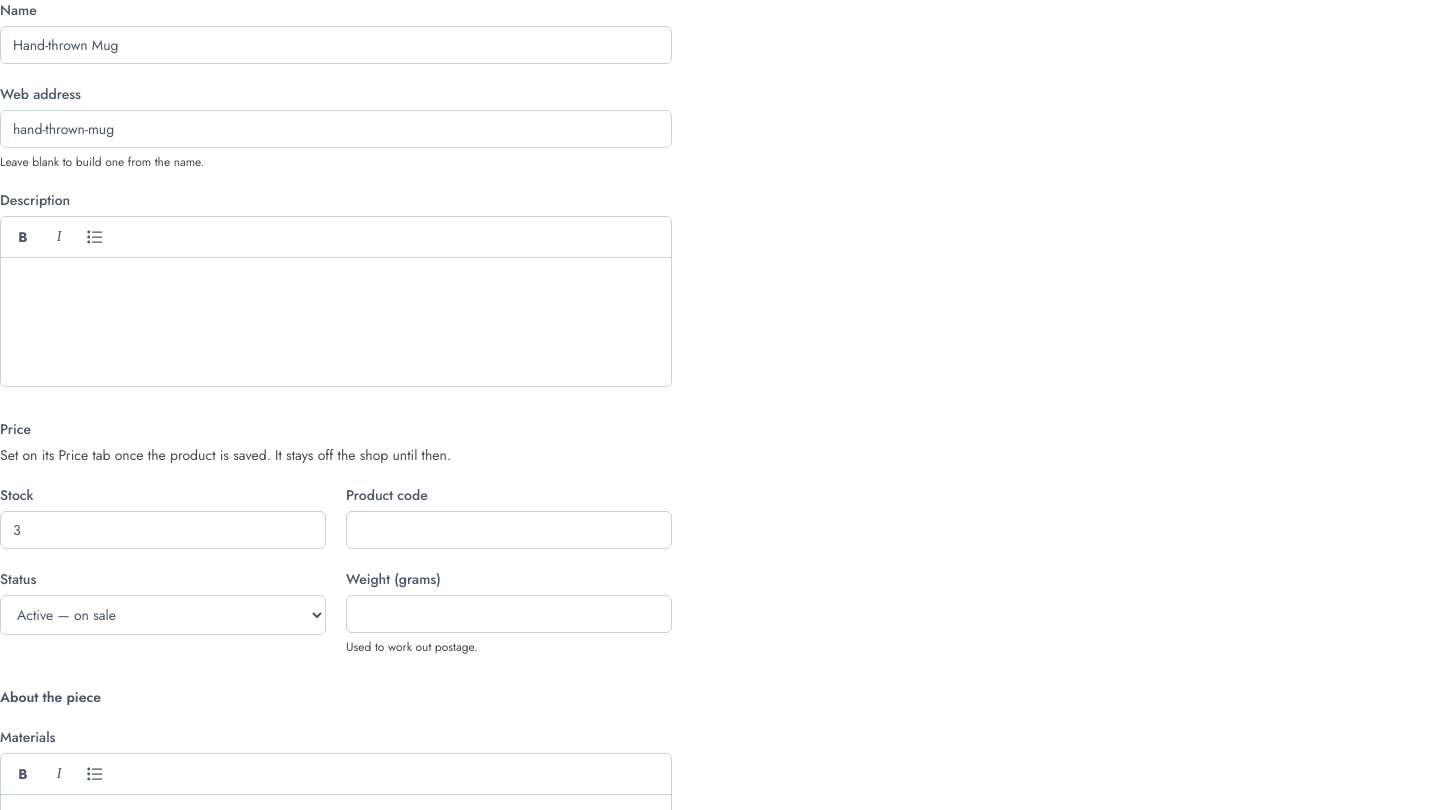
Test: ProductForm › asks before a link takes away changes not yet saved
The width and height of the screenshot is (1440, 810).
In the field labelled "Name": (336, 45) [0, 26, 672, 64], type " - Blue"
(page scrolled)
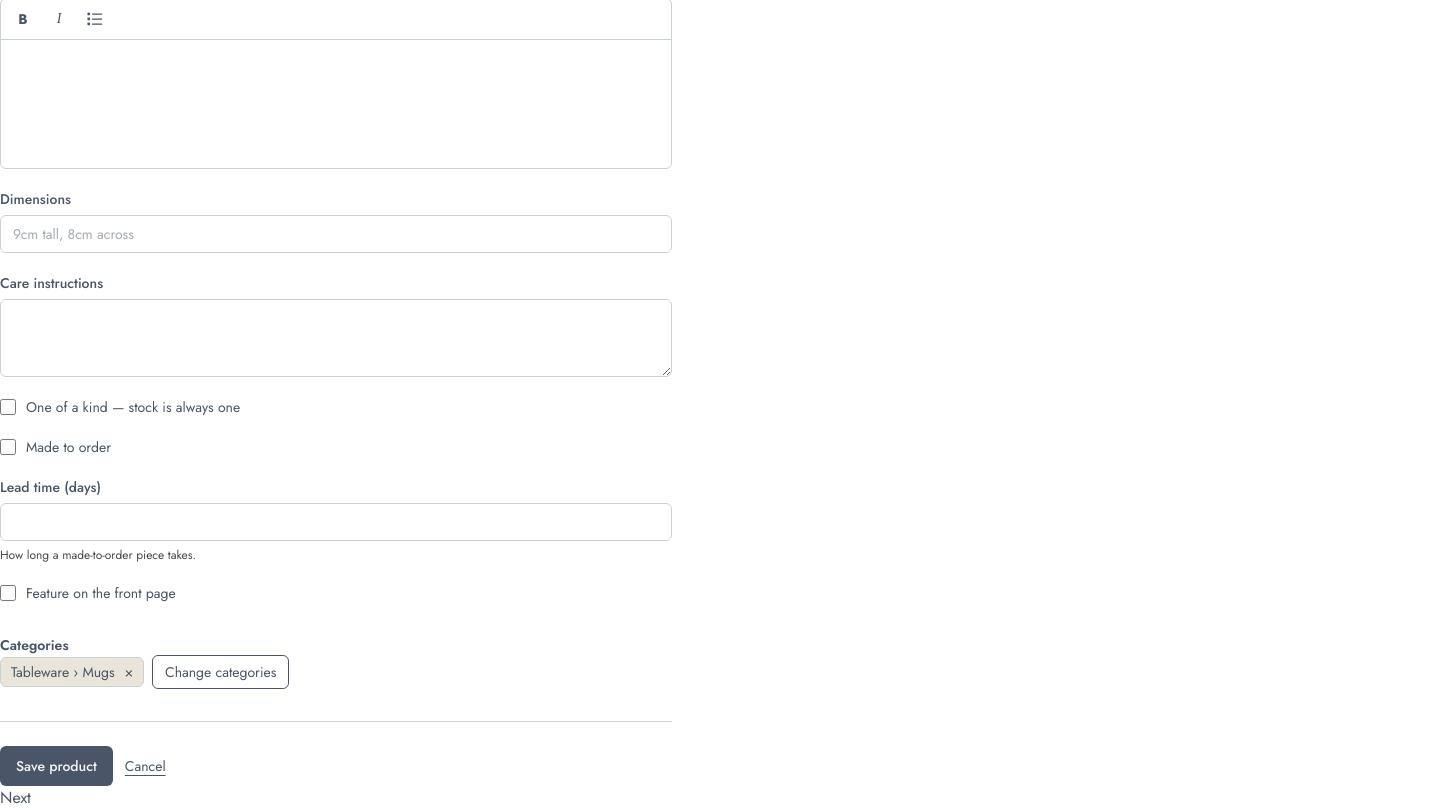
Click the link "Next": (16, 798) [0, 786, 31, 809]
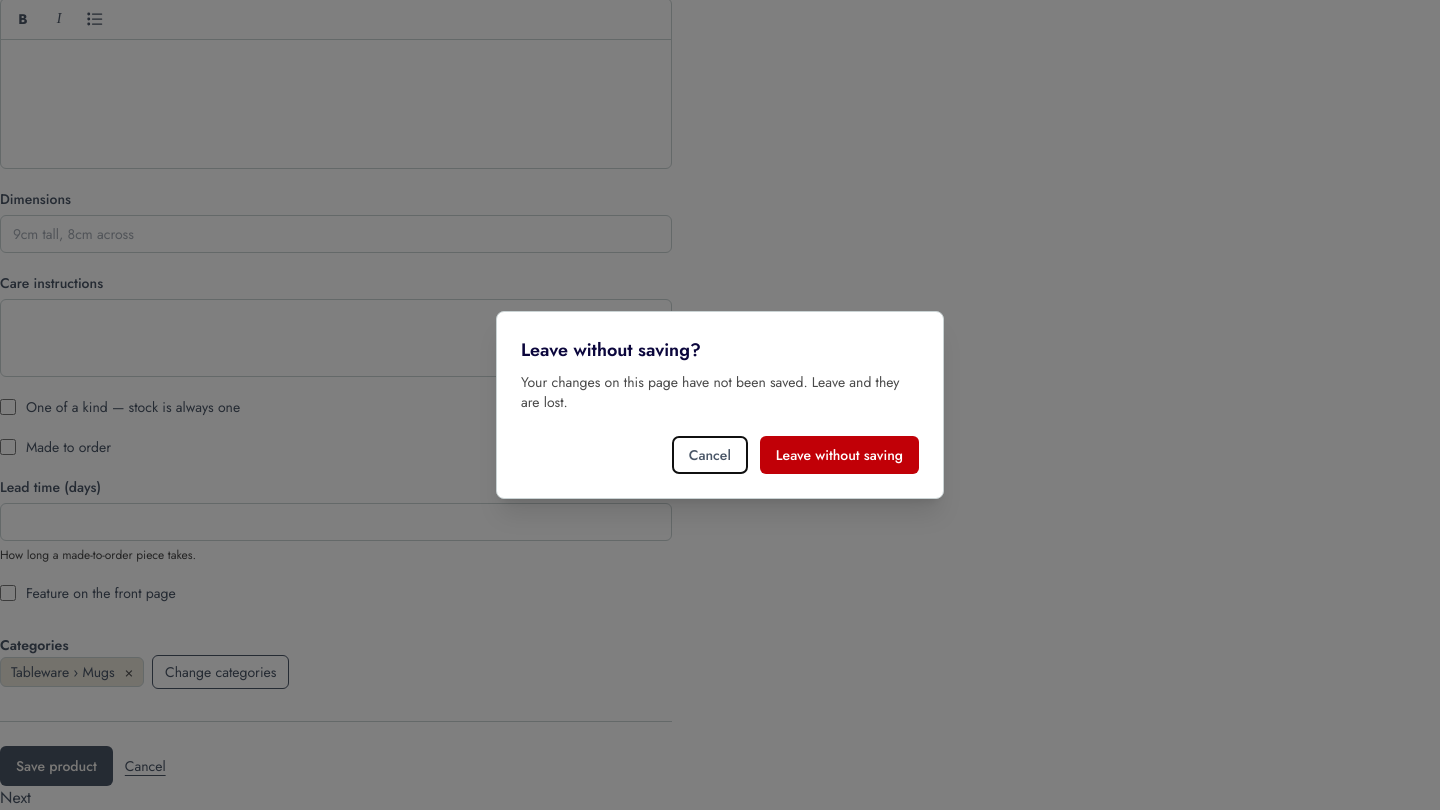
expect the dialog "Leave without saving" is shown: met, box [496, 311, 944, 499]
